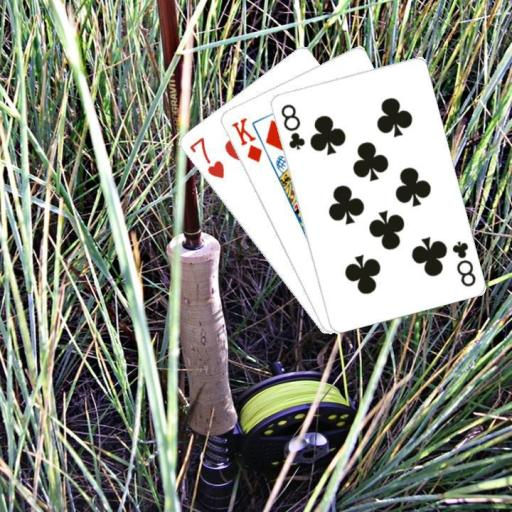7H: (186, 134, 226, 180)
8C: (278, 101, 307, 152), (449, 238, 477, 288)
KD: (227, 115, 264, 165)
